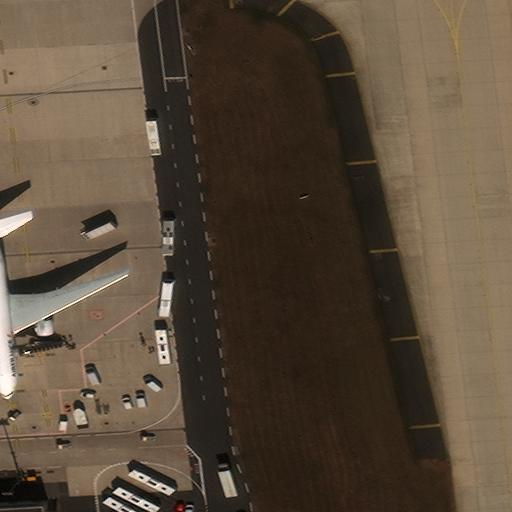Large Civil Transport: (0, 222, 129, 400)
